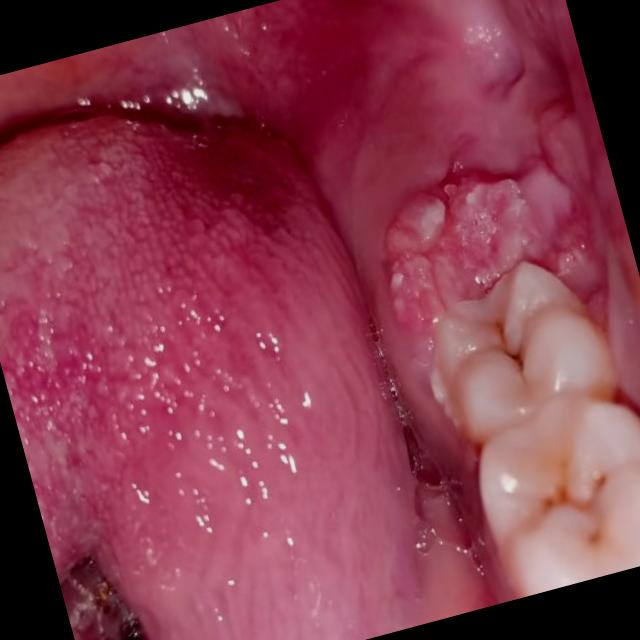Cancer: (118, 16, 383, 288), (352, 115, 617, 354), (362, 326, 522, 618), (425, 0, 590, 135), (54, 545, 170, 640)
